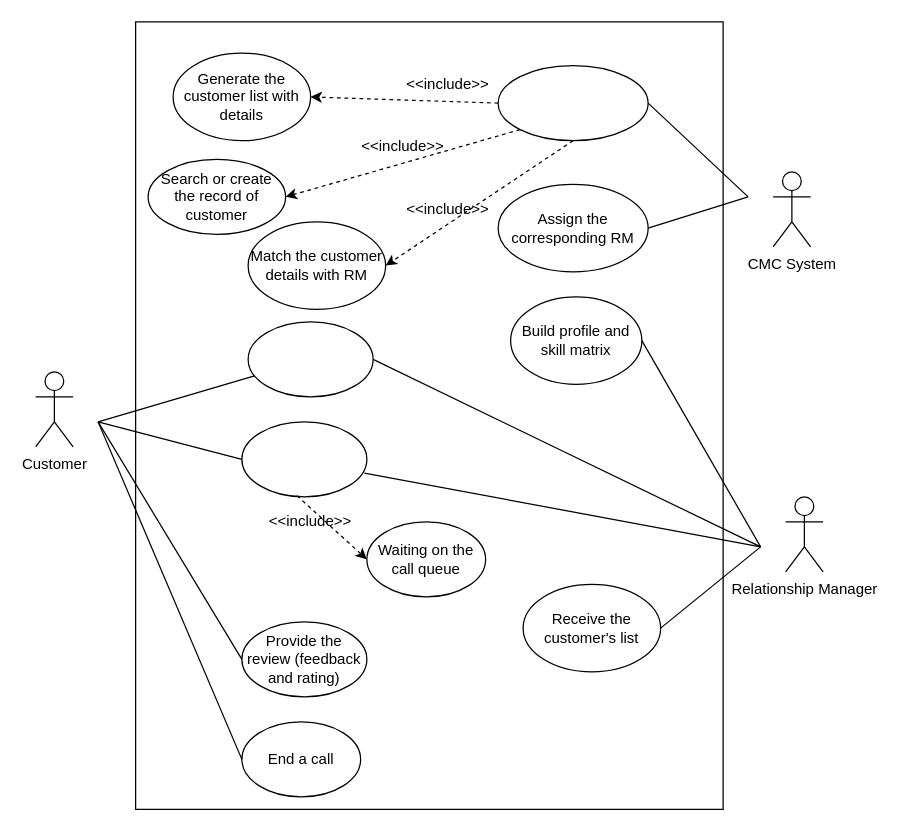
Some shapes in this 899 by 831 pixel diagram are drawn without their labels. Each missing label, with the centre of its shape:
"Analyse the customer's number" belongs at point 572,102.
"Make a call" belongs at point 304,459.
"Receive a call" belongs at point 310,359.
